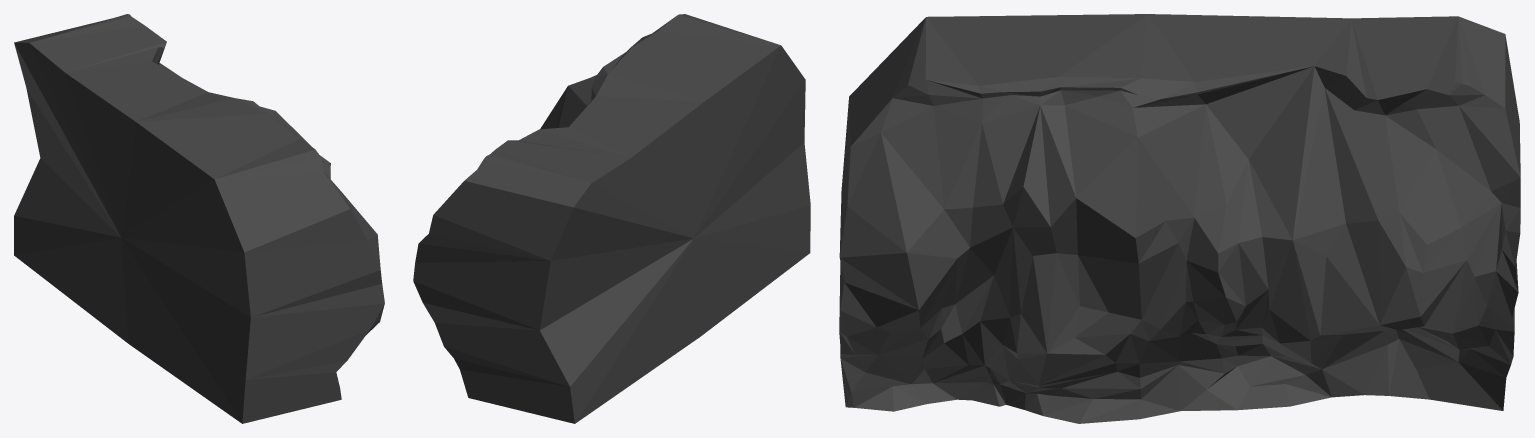
The model's file is Cave_04.FBX.
3 renders of one model, left to right at view 1: azimuth 30°, elevation 25°; view 2: azimuth 150°, elevation 25°; view 3: azimuth 270°, elevation 25°, orthographic. The views are drawn at different scales.
Visible parts, largest first — view 1: Cave_04; view 2: Cave_04; view 3: Cave_04.
Part boxes in pixels (x1,y1,x2,y2): Cave_04: (14,14,384,423); Cave_04: (413,14,810,423); Cave_04: (839,14,1520,423).
Bounding box in the file's own units: 46.32 × 58.65 × 109.
